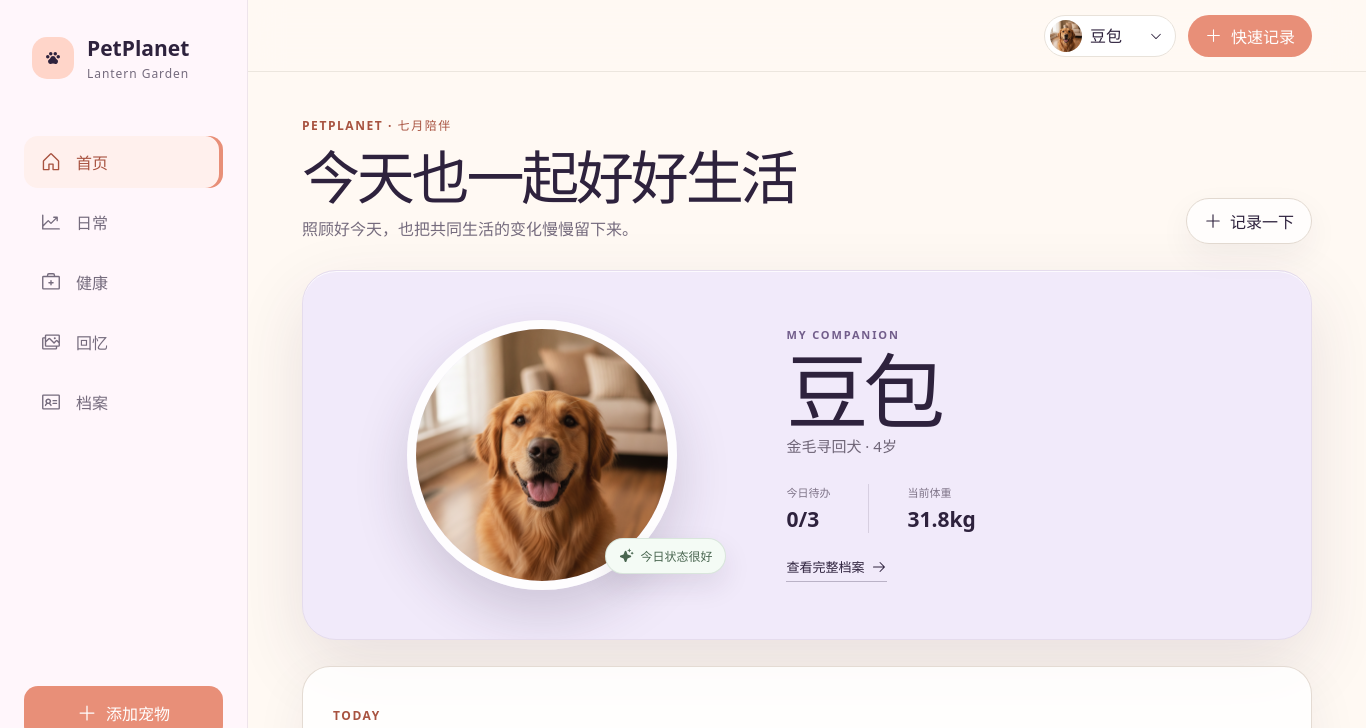
Test case: PetPlanet app › uses the new home, daily, health, memories and profile navigation
Expected: the heading "今天也一起好好生活" is shown, [302,146,795,208]
Click the link "档案" at (74, 402), box [40,391,108,414]
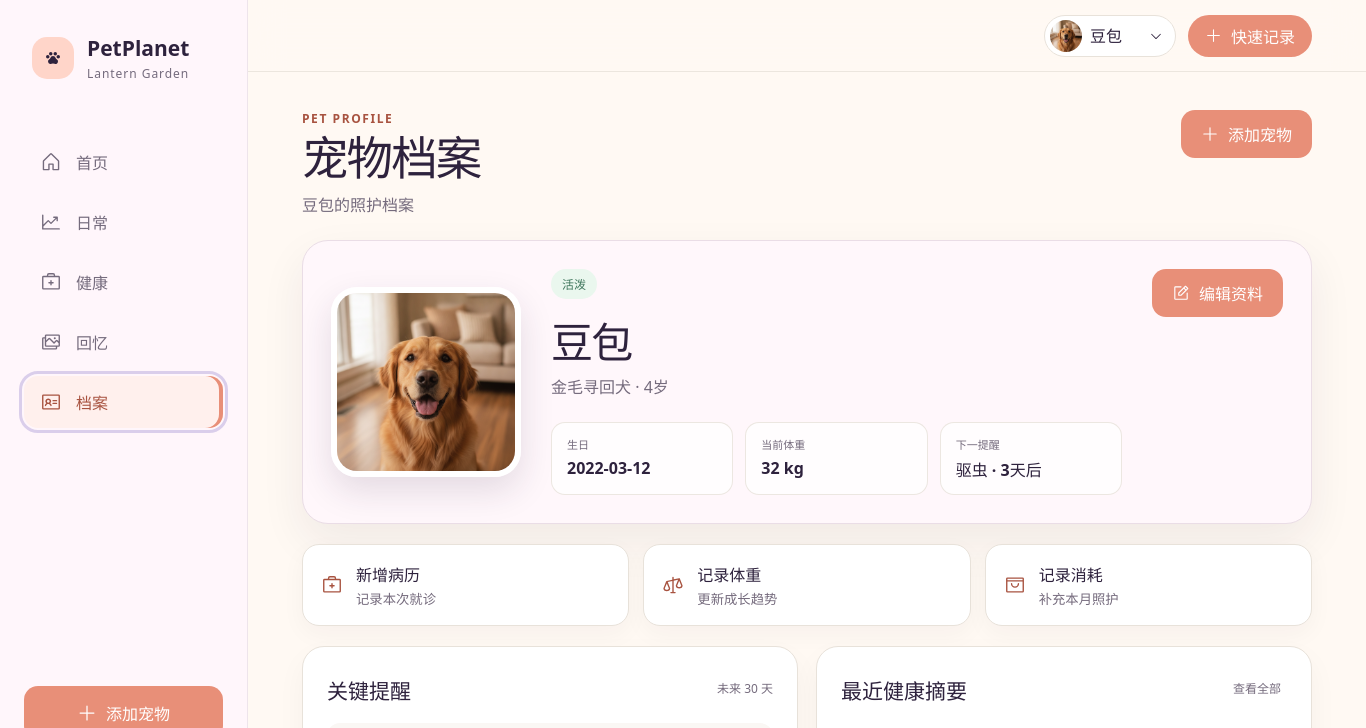
Result: the heading "宠物档案" is shown at [302,133,480,182]
Result: the text "豆包的照护档案" is shown at [302,194,414,216]
Select "米粒" in the dropdown named "当前宠物" at (1116, 36), box [1090,24,1141,46]
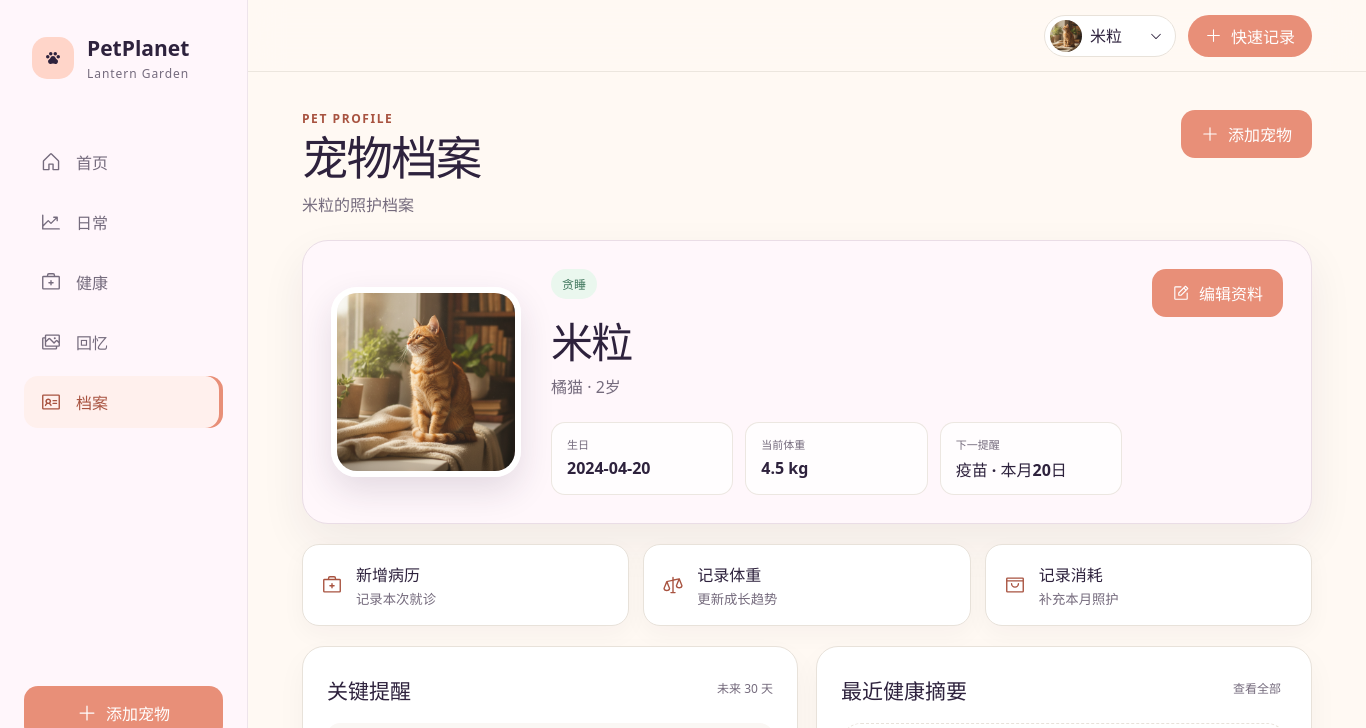
Result: the text "米粒的照护档案" is shown at [302,194,414,216]
